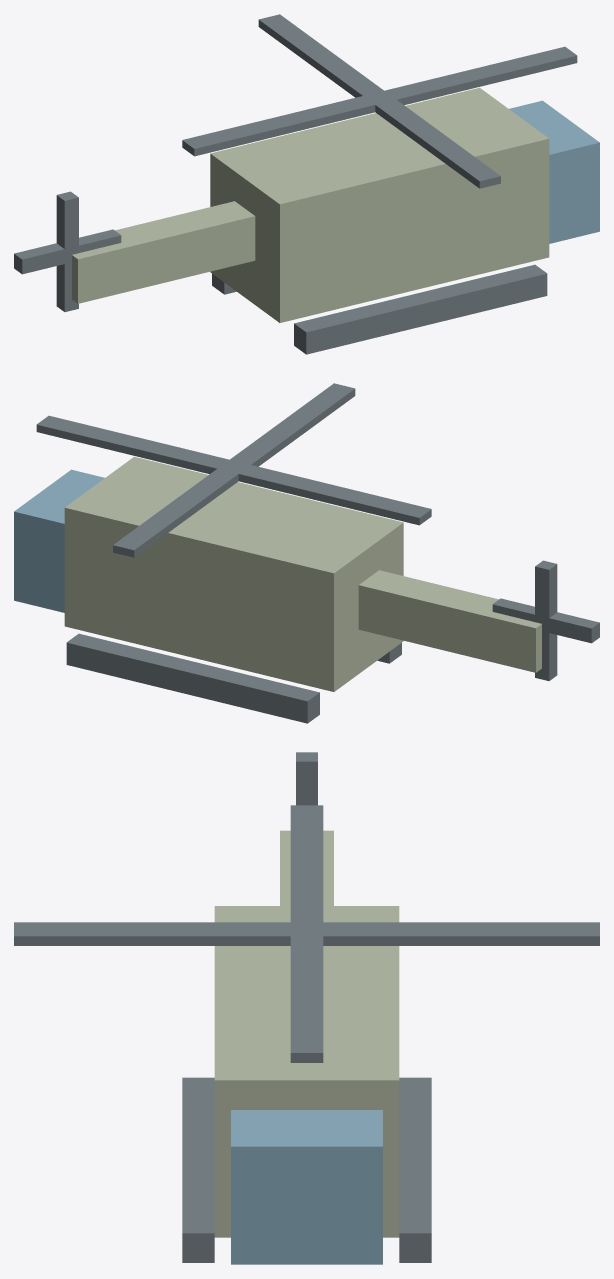
Rendered from heli-gunship.glb.
The picture shows the model from 3 angles, top to bottom: view 1: azimuth 30°, elevation 25°; view 2: azimuth 150°, elevation 25°; view 3: azimuth 270°, elevation 25°; orthographic projection. The views are drawn at different scales.
Visible parts, largest first — view 1: fuselage, tail, skid_r, blade_a, cockpit, blade_b, tail_a, tail_b; view 2: fuselage, tail, skid_l, blade_a, cockpit, blade_b, tail_a, tail_b; view 3: fuselage, cockpit, blade_b, blade_a, skid_l, skid_r, tail, tail_a.
Boxes of the visible parts, left/top/right/bottom form: fuselage: left=210, top=87, right=549, bottom=322; tail: left=72, top=201, right=255, bottom=303; skid_r: left=294, top=264, right=547, bottom=354; blade_a: left=182, top=46, right=577, bottom=156; cockpit: left=509, top=100, right=599, bottom=243; blade_b: left=258, top=14, right=500, bottom=188; tail_a: left=56, top=191, right=78, bottom=311; tail_b: left=14, top=229, right=121, bottom=274; fuselage: left=64, top=456, right=403, bottom=691; tail: left=358, top=570, right=541, bottom=672; skid_l: left=66, top=633, right=319, bottom=723; blade_a: left=36, top=415, right=431, bottom=525; cockpit: left=14, top=469, right=104, bottom=612; blade_b: left=113, top=383, right=355, bottom=557; tail_a: left=535, top=560, right=557, bottom=680; tail_b: left=492, top=598, right=599, bottom=643; fuselage: left=214, top=906, right=399, bottom=1237; cockpit: left=231, top=1110, right=382, bottom=1264; blade_b: left=14, top=922, right=599, bottom=945; blade_a: left=290, top=805, right=323, bottom=1062; skid_l: left=399, top=1077, right=431, bottom=1262; skid_r: left=182, top=1077, right=214, bottom=1262; tail: left=280, top=830, right=333, bottom=905; tail_a: left=296, top=752, right=317, bottom=805.
Bounding box in the file's own units: 78 × 26 × 54.
